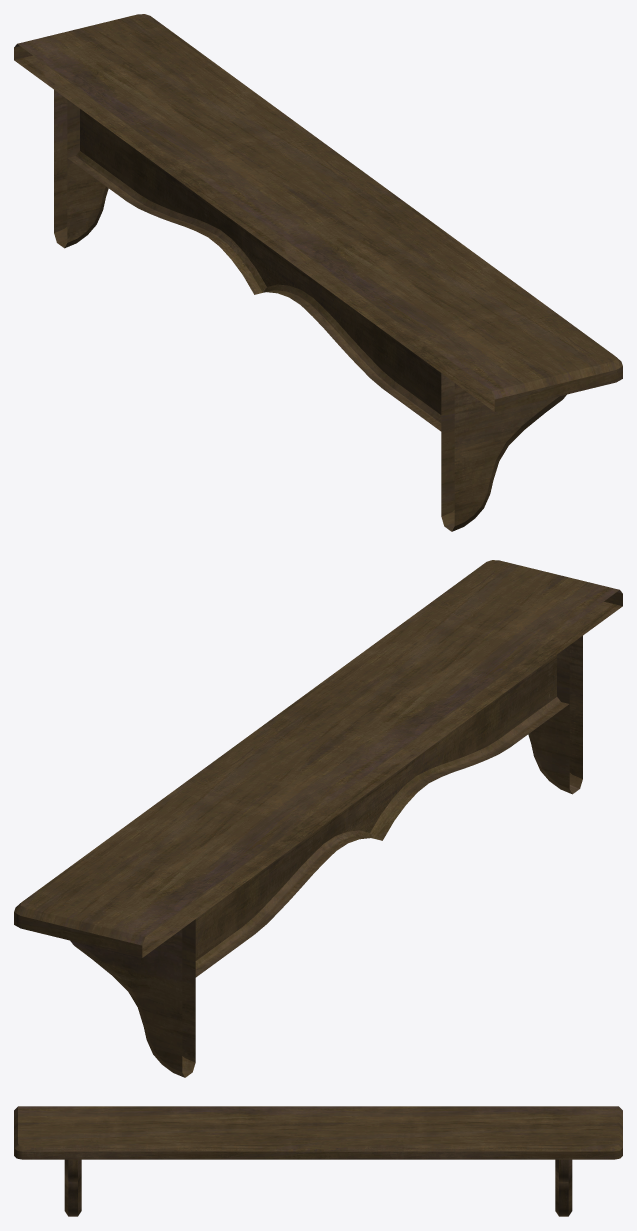
The model's file is WallShelf.fbx.
The picture shows the model from 3 angles, top to bottom: view 1: azimuth 30°, elevation 25°; view 2: azimuth 150°, elevation 25°; view 3: azimuth 270°, elevation 25°; orthographic projection. The views are drawn at different scales.
Parts seen in each view (by area): view 1: WallShelfWood_b_LOD0; view 2: WallShelfWood_b_LOD0; view 3: WallShelfWood_b_LOD0.
Boxes of the visible parts, x1=… form: WallShelfWood_b_LOD0: x1=14, y1=14, x2=622, y2=531; WallShelfWood_b_LOD0: x1=14, y1=560, x2=622, y2=1077; WallShelfWood_b_LOD0: x1=14, y1=1106, x2=622, y2=1216.
Bounding box in the file's own units: 20.6 × 24.96 × 128.
